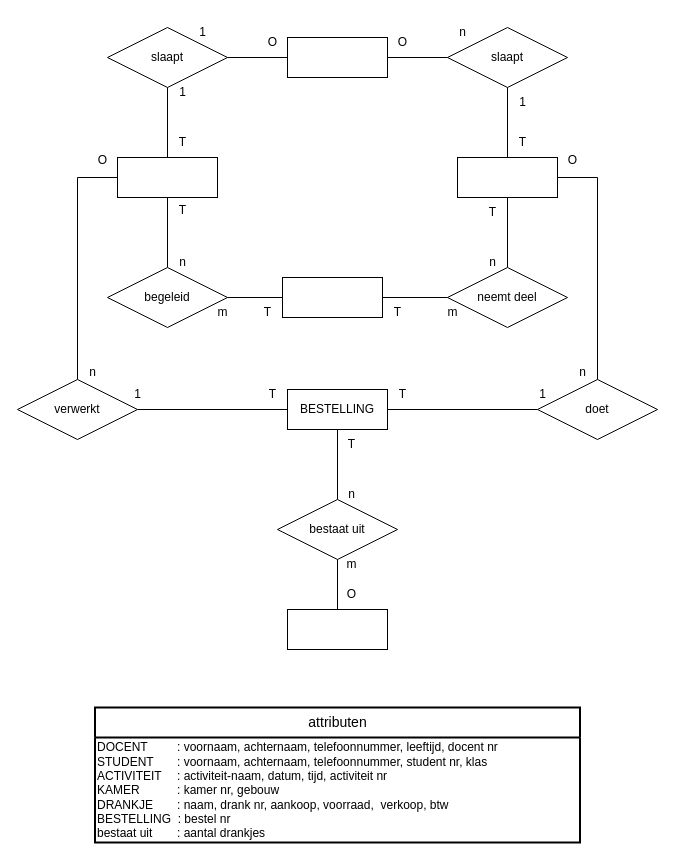
This 675x860 diagram has some shape labels left out. Here are the shapes that lost their labels. From the top down, the centre of each, then its label:
At point 337,57: "KAMER".
At point 167,177: "DOCENT".
At point 507,177: "STUDENT".
At point 332,297: "ACTIVITEIT".
At point 337,629: "DRANKJE".
